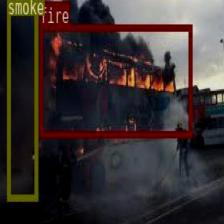fire: (38, 24, 191, 136)
smoke: (6, 0, 37, 199)
